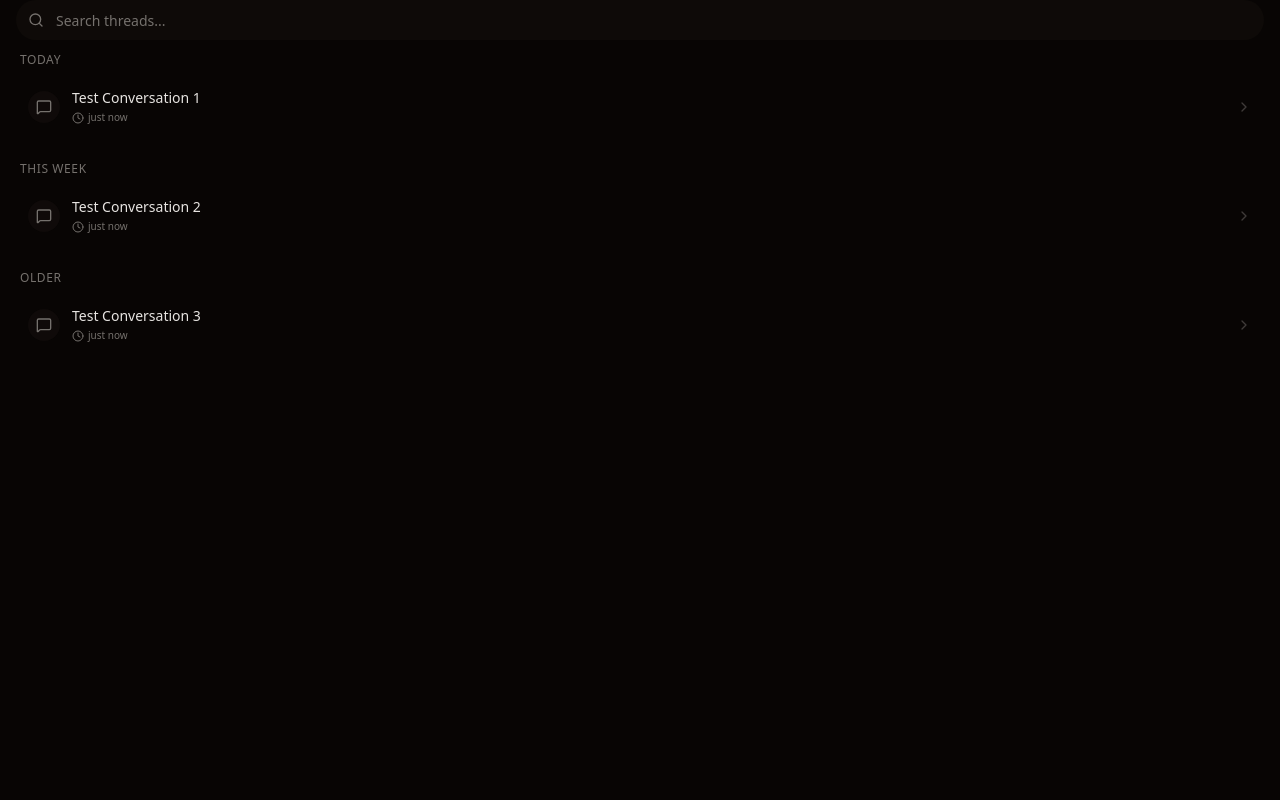
ChatHistoryContent › Search Functionality › should filter conversations based on search query
This screenshot has width=1280, height=800.
Type "Conversation 1" into the field with placeholder "Search threads...". click: [640, 20]
box: [16, 0, 1264, 40]
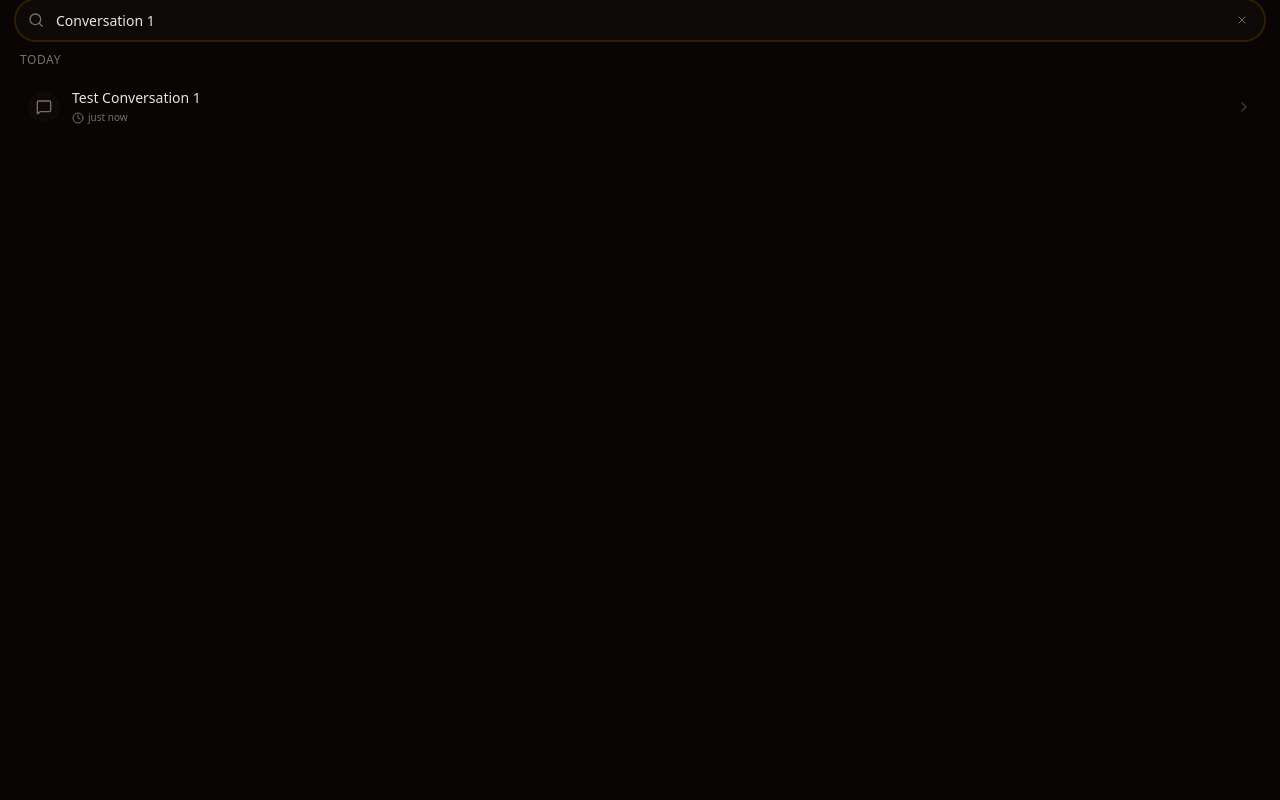
Expected: the text "Test Conversation 1" is shown, [72, 88, 201, 107]
Expected: the button "Test Conversation 2" is gone
Expected: the button "Test Conversation 3" is gone
